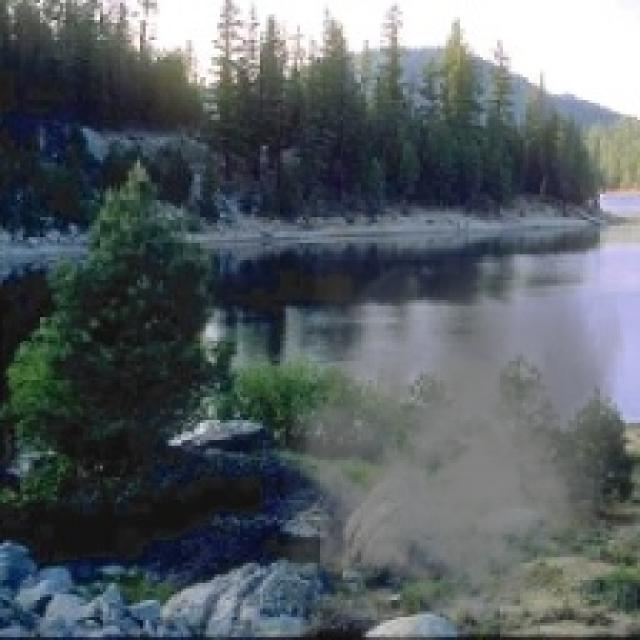smoke: (283, 257, 626, 629)
